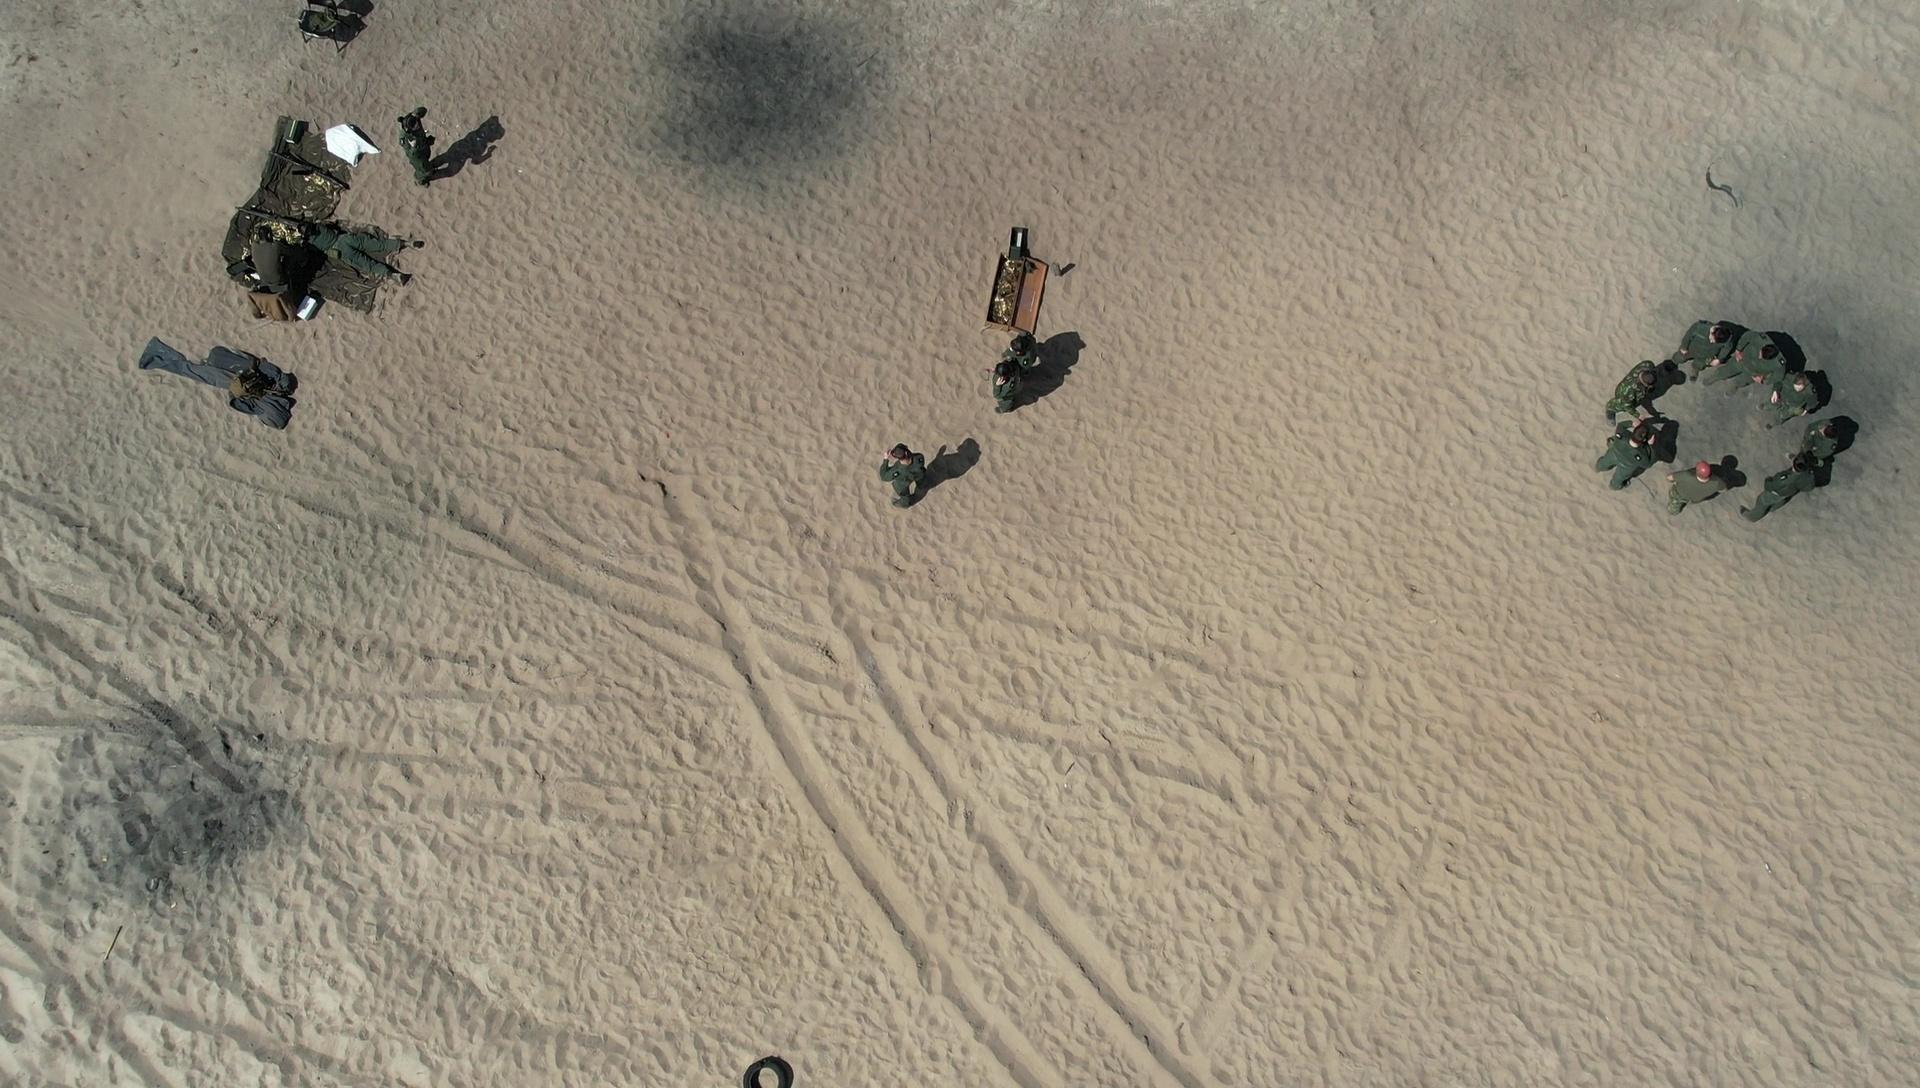Soldier: (289, 210, 439, 299), (378, 91, 463, 190), (223, 222, 299, 320), (1660, 452, 1738, 531), (1594, 411, 1660, 502), (872, 433, 938, 513), (1667, 314, 1742, 380), (1749, 455, 1825, 520), (1729, 326, 1797, 388), (1604, 356, 1677, 411), (1768, 371, 1832, 431), (1797, 411, 1853, 459), (982, 346, 1023, 404), (1001, 336, 1051, 377)
